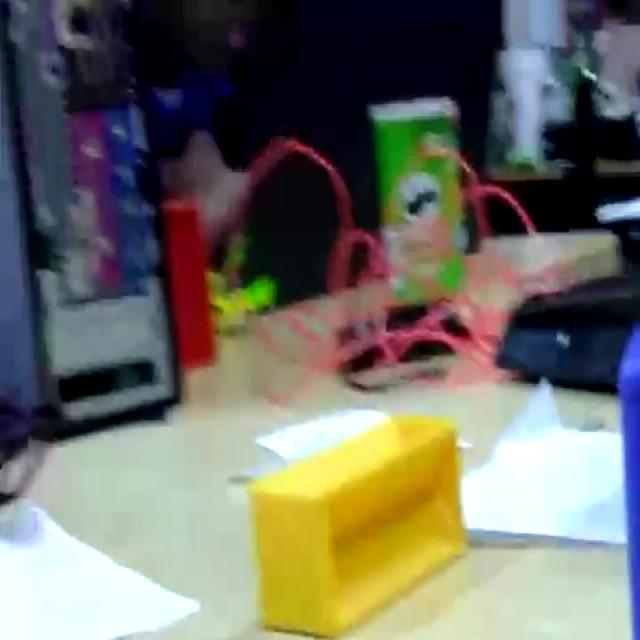yellow_block: (247, 410, 467, 634)
